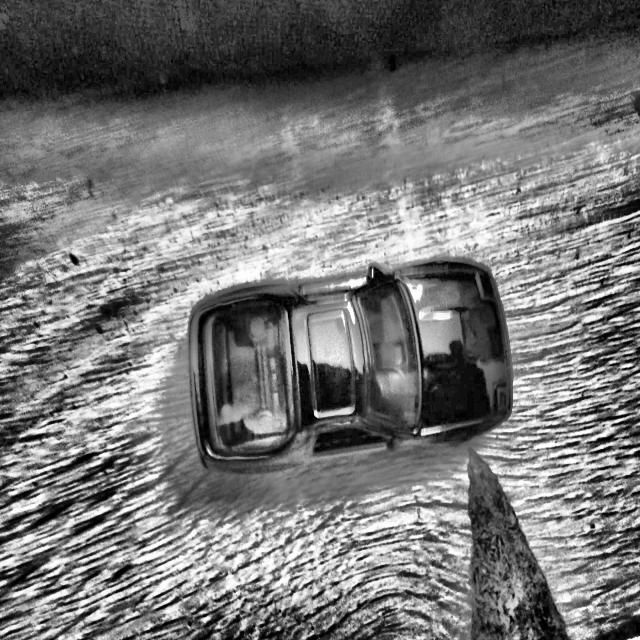car: (188, 259, 513, 474)
